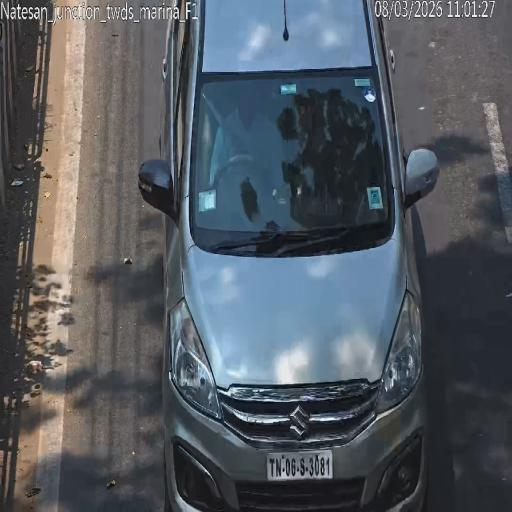person_with_seatbelt: (198, 87, 262, 185)
